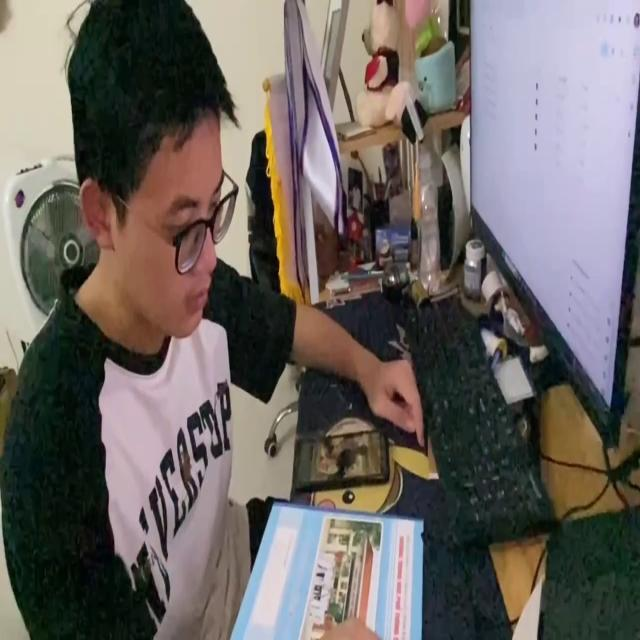book: (219, 497, 425, 640)
laptop: (467, 0, 640, 453)
phone: (289, 432, 392, 493)
student: (0, 0, 427, 640)
